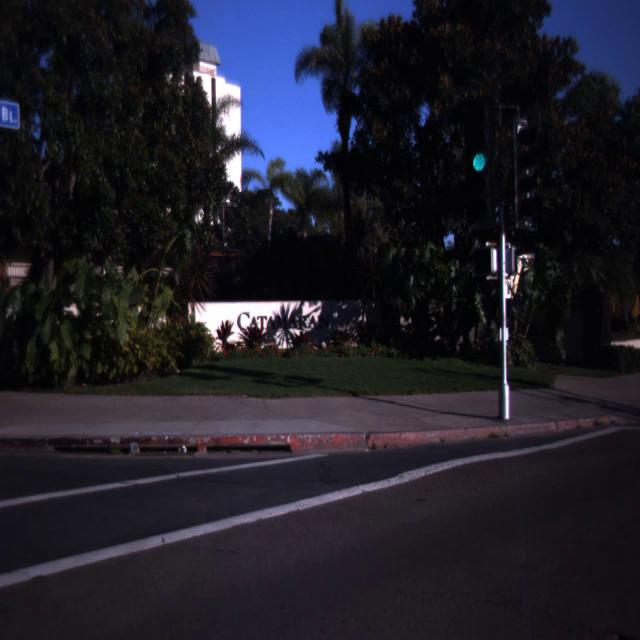yesil: (465, 102, 489, 184)
